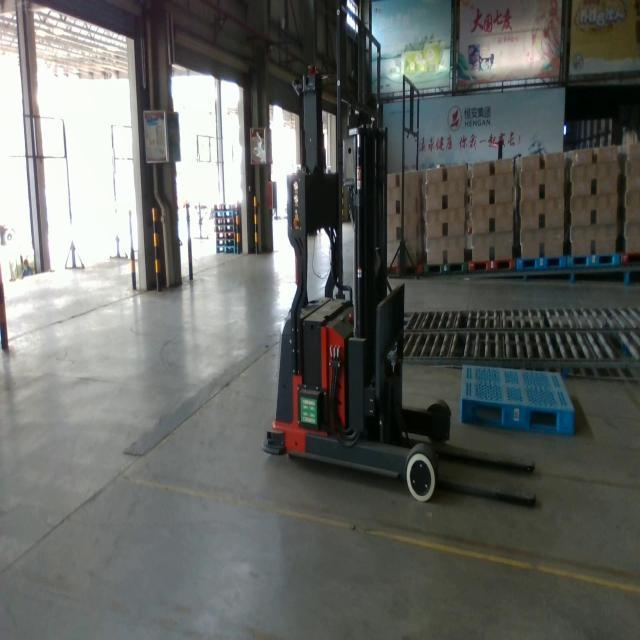forklift: (261, 61, 541, 512)
